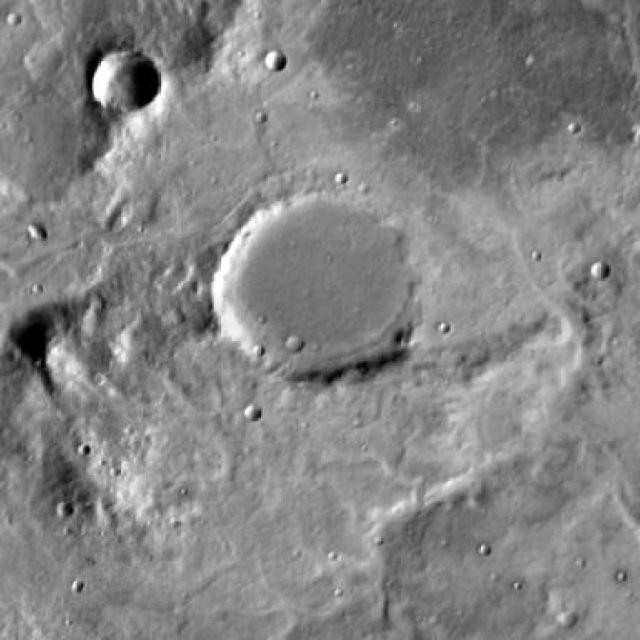crater: (211, 186, 420, 386), (88, 49, 155, 114), (284, 332, 302, 351), (241, 401, 259, 419), (53, 504, 72, 521), (564, 614, 582, 631), (30, 226, 48, 243), (266, 52, 283, 68)
